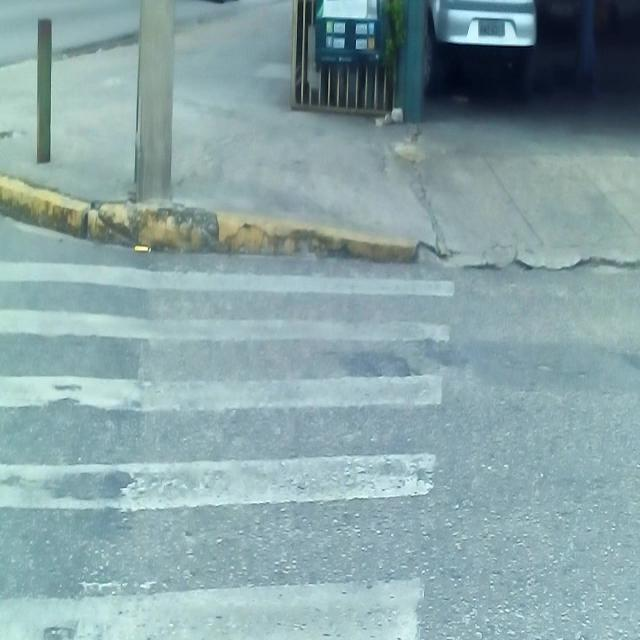crosswalk: (0, 212, 457, 640)
